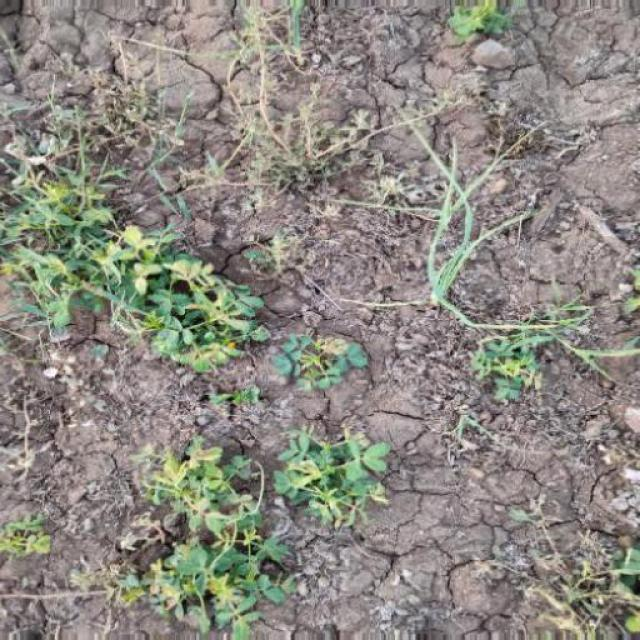weed: (364, 118, 588, 380), (95, 434, 394, 624), (20, 181, 252, 379)
